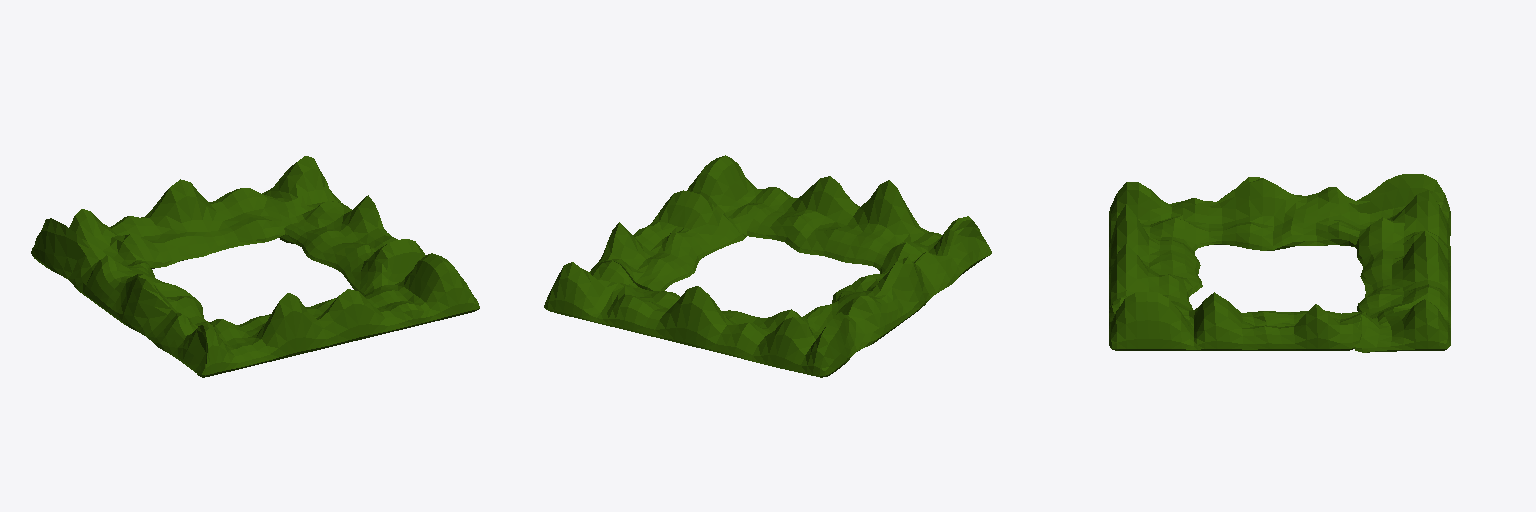
Rendered from berg.obj.
3 views of the same model, side by side, from view 1: azimuth 30°, elevation 25°; view 2: azimuth 150°, elevation 25°; view 3: azimuth 270°, elevation 25° (orthographic).
Visible parts, largest first — view 1: Cube; view 2: Cube; view 3: Cube.
Part boxes in pixels (left/top/right/bottom): Cube: left=31, top=156, right=479, bottom=377; Cube: left=544, top=155, right=991, bottom=377; Cube: left=1109, top=174, right=1450, bottom=352.
Size of the model in its own units: 38.35 by 7.82 by 39.7.